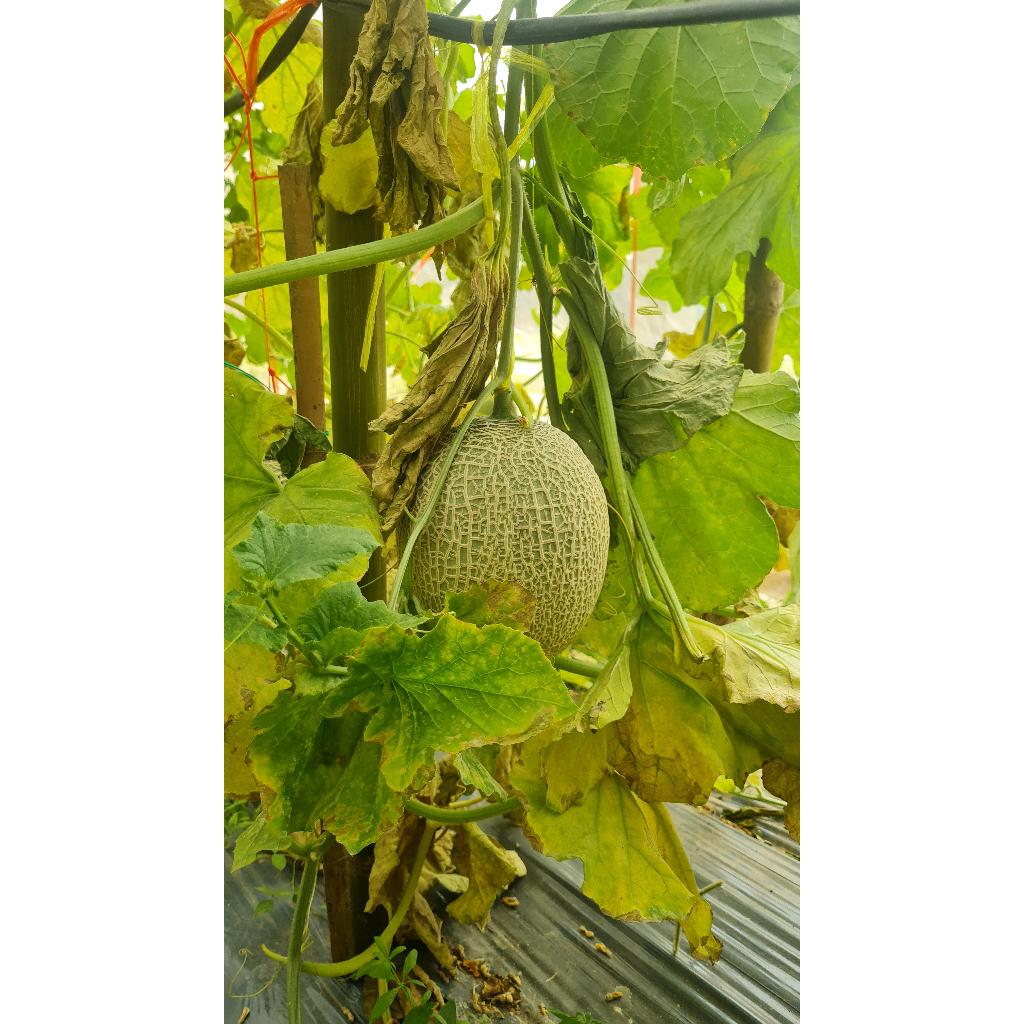melon: (412, 418, 610, 656)
